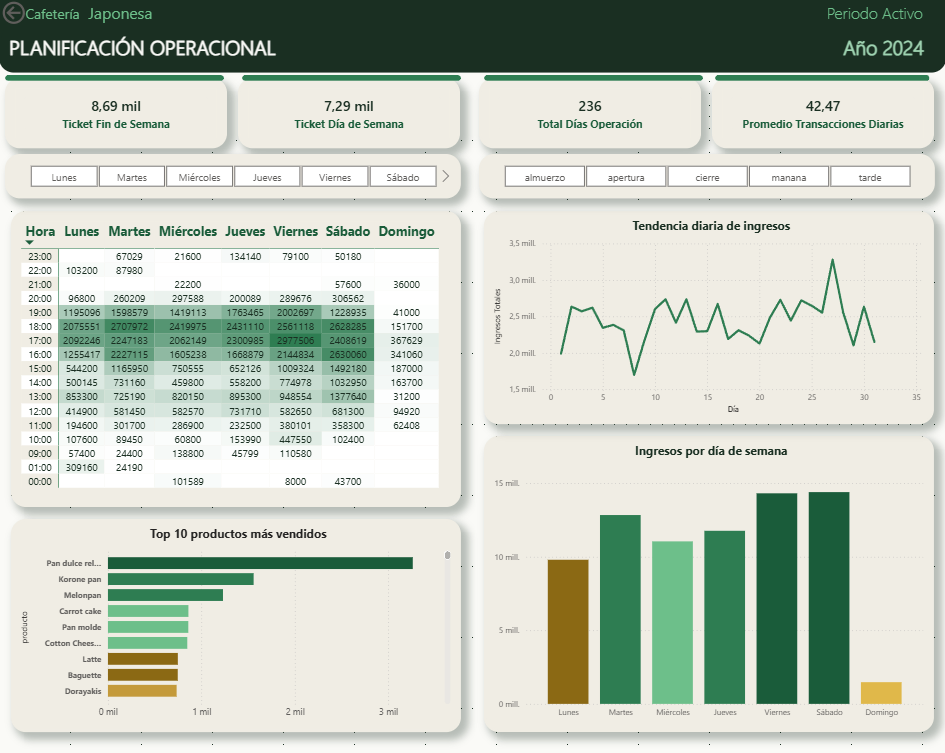

The dashboard page shown, as its layout file describes it:
{"tool":"powerbi","page":{"name":"Planificación Operacional","canvas":[1280,1500],"ordinal":2},"visuals":[{"type":"textbox","box":[0,0,1280.2,46.5],"z":0},{"type":"textbox","box":[0,34.2,1280.2,66.7],"z":1000},{"type":"cardVisual","fields":{"Data":["DimFecha.Ticket Fin de Semana"]},"box":[7.9,108,300.3,95],"z":2000},{"type":"cardVisual","fields":{"Data":["DimFecha.Ticket Día de Semana"]},"box":[323.1,108,300.3,95],"z":3000},{"type":"cardVisual","fields":{"Data":["DimFecha.Total Días Operación"]},"box":[648.9,108,300.3,95],"z":4000},{"type":"cardVisual","fields":{"Data":["DimFecha.Promedio Transacciones Diarias"]},"box":[964.1,108,300.3,95],"z":5000},{"type":"shape","box":[968,104,290,8],"z":6000},{"type":"actionButton","box":[0,0,100,40],"z":7000},{"type":"pivotTable","fields":{"Values":["DimFecha.Ingresos Totales"],"Rows":["transactions_clean.hora_formato"],"Columns":["transactions_clean.dia_semana_es"]},"box":[16,288,608,400],"z":8000},{"type":"columnChart","title":"Ingresos por día de semana","fields":{"Y":["DimFecha.Ingresos Totales"],"Category":["transactions_clean.dia_semana_es"]},"box":[656,592,608,400],"z":9000},{"type":"lineChart","title":"Tendencia diaria de ingresos","fields":{"Category":["DimFecha.Date.Variación.Jerarquía de fechas.Año","DimFecha.Date.Variación.Jerarquía de fechas.Trimestre","DimFecha.Date.Variación.Jerarquía de fechas.Mes","DimFecha.Date.Variación.Jerarquía de fechas.Día"],"Y":["DimFecha.Ingresos Totales"]},"box":[656,288,608,288],"z":10000},{"type":"clusteredBarChart","title":"Top 10 productos más vendidos","fields":{"Category":["items_clean.producto"],"Y":["items_clean.Unidades Vendidas"]},"box":[16,704,608,288],"z":11000},{"type":"slicer","title":"Filtrar por día","fields":{"Values":["transactions_clean.dia_semana_es"]},"box":[7.9,210.7,615.5,60],"z":12000},{"type":"slicer","title":"Filtrar por franja horaria","fields":{"Values":["transactions_clean.franja_horaria"]},"box":[648.9,210.7,615.5,60],"z":13000},{"type":"shape","box":[656,104,296,8],"z":14000},{"type":"shape","box":[328,104,296,8],"z":15000},{"type":"shape","box":[8,104,296,8],"z":16000}]}

Visuals, with their boxes on the page's 1280x1500 design canvas (x1, y1, x2, y2). These are canvas units, not pixel positions in the 945x753 screenshot, which may show the page scaled, cropped or inside an application window:
textbox: pyautogui.locateOnScreen(0, 0, 1280, 46)
textbox: pyautogui.locateOnScreen(0, 34, 1280, 101)
cardVisual - DimFecha.Ticket Fin de Semana: pyautogui.locateOnScreen(8, 108, 308, 203)
cardVisual - DimFecha.Ticket Día de Semana: pyautogui.locateOnScreen(323, 108, 623, 203)
cardVisual - DimFecha.Total Días Operación: pyautogui.locateOnScreen(649, 108, 949, 203)
cardVisual - DimFecha.Promedio Transacciones Diarias: pyautogui.locateOnScreen(964, 108, 1264, 203)
shape: pyautogui.locateOnScreen(968, 104, 1258, 112)
actionButton: pyautogui.locateOnScreen(0, 0, 100, 40)
pivotTable - DimFecha.Ingresos Totales x transactions_clean.hora_formato: pyautogui.locateOnScreen(16, 288, 624, 688)
"Ingresos por día de semana" columnChart: pyautogui.locateOnScreen(656, 592, 1264, 992)
"Tendencia diaria de ingresos" lineChart: pyautogui.locateOnScreen(656, 288, 1264, 576)
"Top 10 productos más vendidos" clusteredBarChart: pyautogui.locateOnScreen(16, 704, 624, 992)
"Filtrar por día" slicer: pyautogui.locateOnScreen(8, 211, 623, 271)
"Filtrar por franja horaria" slicer: pyautogui.locateOnScreen(649, 211, 1264, 271)
shape: pyautogui.locateOnScreen(656, 104, 952, 112)
shape: pyautogui.locateOnScreen(328, 104, 624, 112)
shape: pyautogui.locateOnScreen(8, 104, 304, 112)
